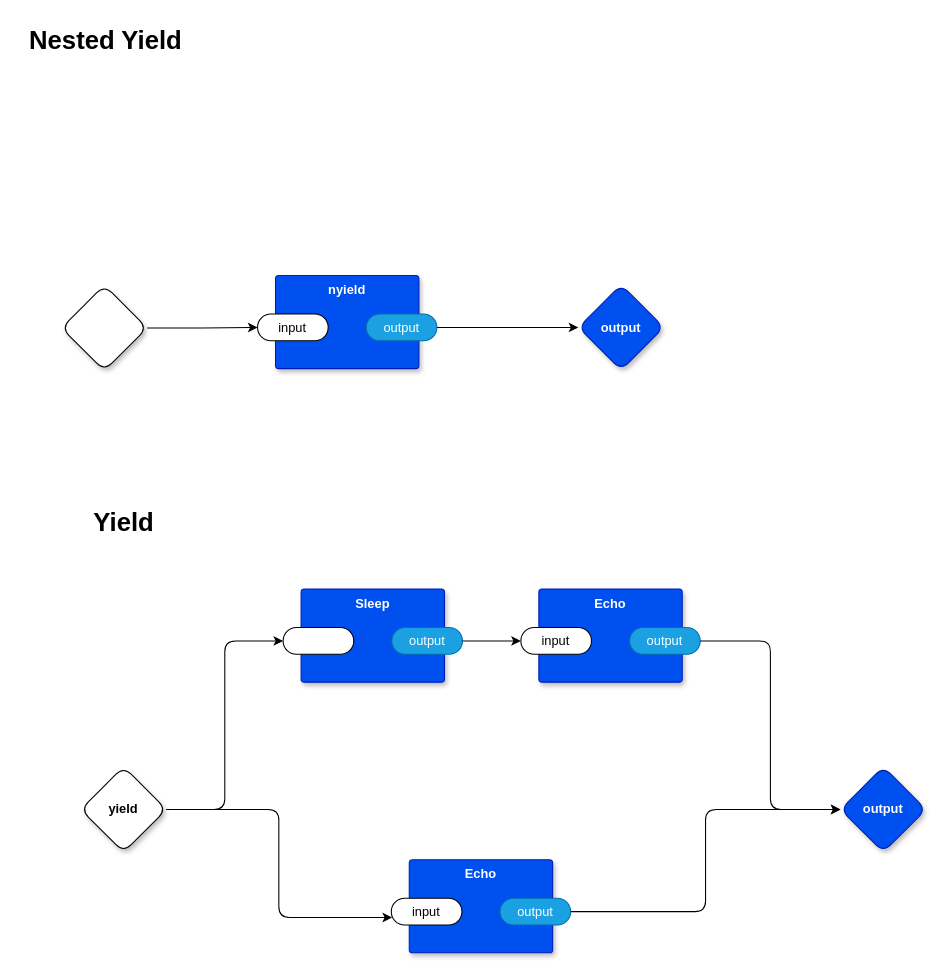
Some shapes in this 951 by 979 pixel diagram are drawn without their labels. The shapes that lost their labels are listed below. From the top down, each one's centre as x and y in pixels, then its label:
(105,329): nestedyield
(318,640): wait
